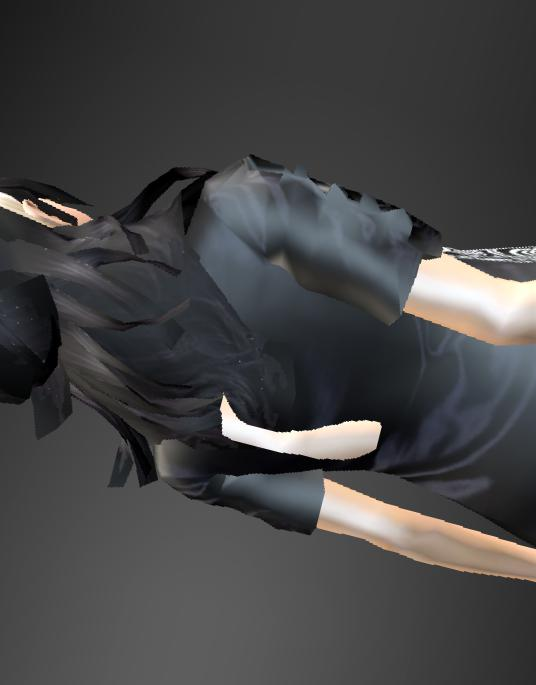clip: (209, 389, 272, 453)
